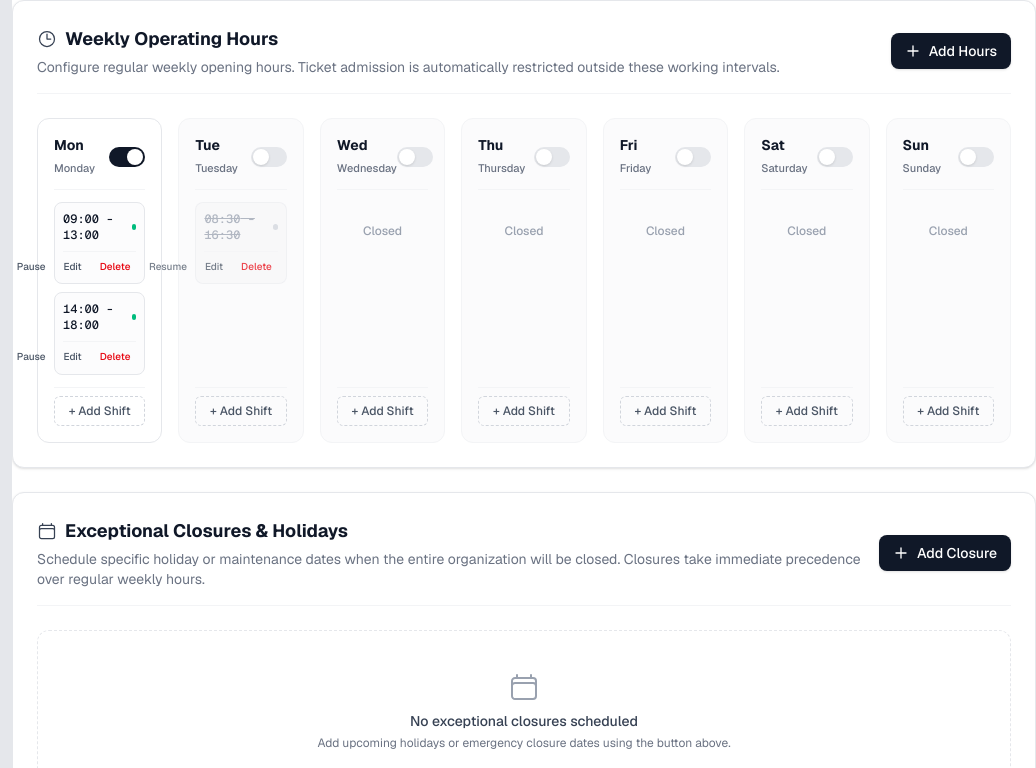
Test: OperatingHoursManagement Component › deletes a schedule interval after confirmation
Check: the text "09:00 - 13:00" is shown, box [63,211,113,243]
Click the button with aria-label "delete monday interval 09:00 to 13:00": coordinates (115, 267) [94,258,136,275]
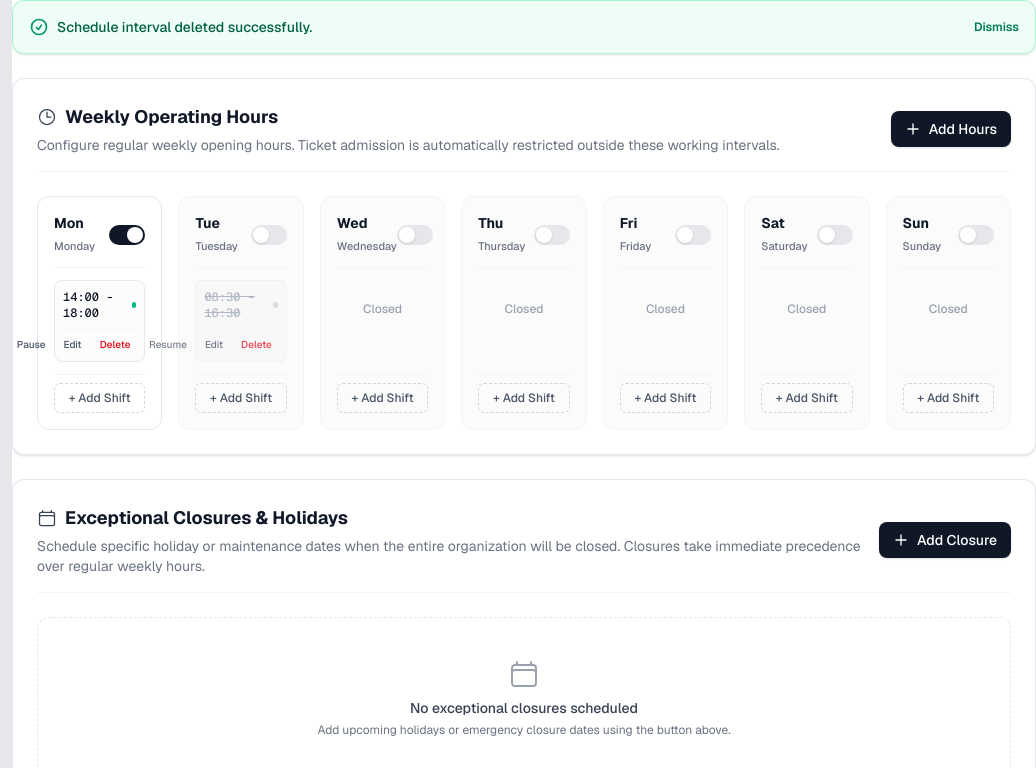
Check: the text "Schedule interval deleted successfully." is shown, box [57,17,312,37]
Check: the text "09:00 - 13:00" is gone
